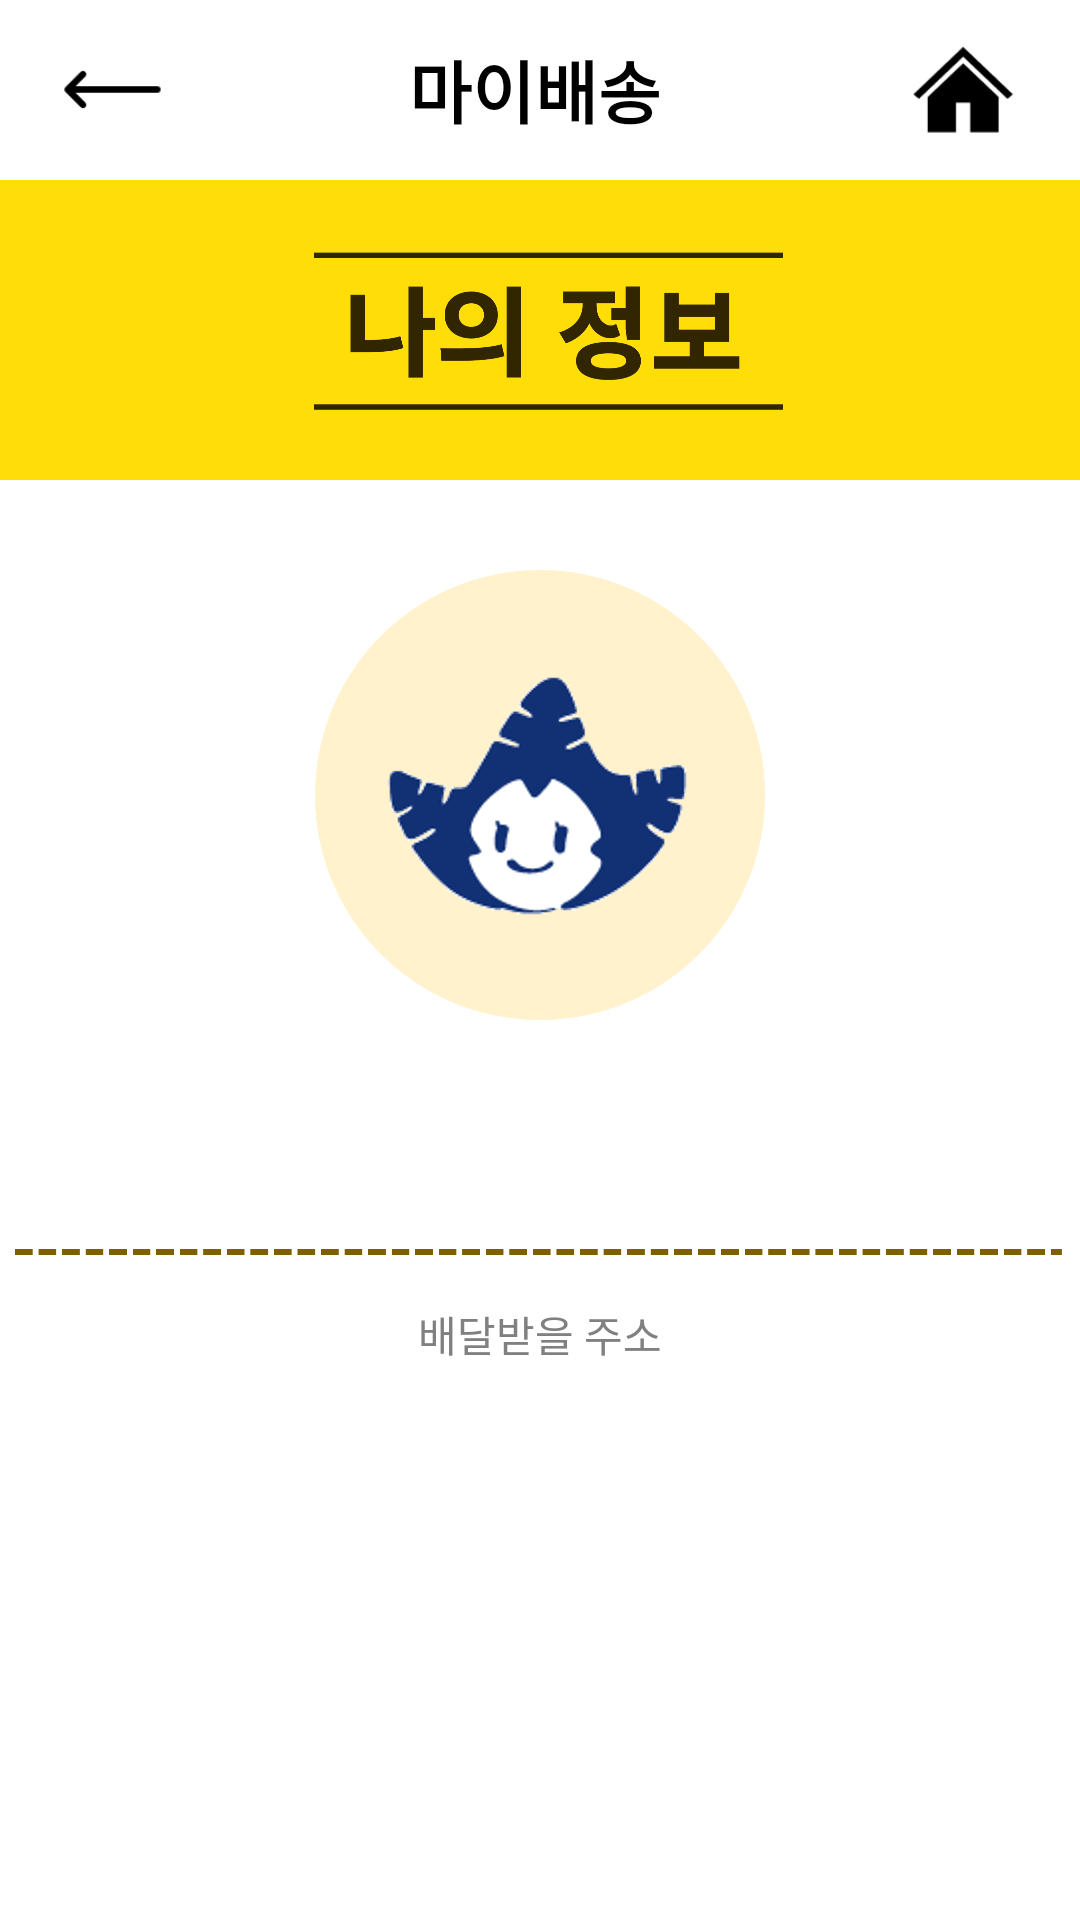

Screen size 1080px x 1920px. Icon name, then its box in pixels as (x1, y1, x2, y2):
back: (64, 70, 161, 109)
home: (913, 47, 1013, 133)
